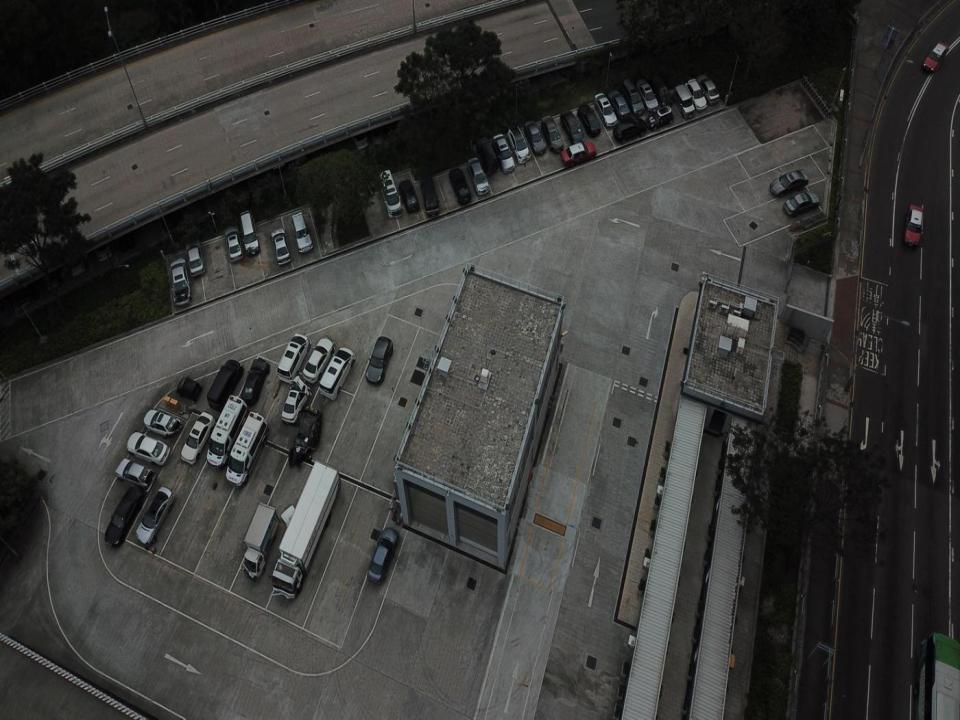bus: (917, 632, 958, 719)
car: (227, 409, 270, 488), (207, 394, 248, 470), (104, 486, 144, 548), (136, 486, 174, 546), (287, 406, 322, 467), (367, 528, 399, 585), (181, 411, 213, 464), (300, 336, 336, 383), (126, 430, 170, 465), (366, 334, 394, 386), (240, 357, 270, 405), (116, 457, 155, 493), (282, 376, 306, 426), (418, 166, 441, 218), (142, 408, 183, 437), (770, 168, 809, 197), (168, 258, 190, 306), (466, 156, 490, 197), (560, 141, 597, 167), (491, 133, 515, 173), (782, 192, 820, 217), (291, 212, 314, 253), (523, 119, 548, 156), (577, 101, 602, 138), (593, 90, 618, 127), (612, 117, 646, 144), (222, 222, 244, 263), (903, 203, 923, 248), (922, 40, 949, 73), (270, 224, 290, 268), (507, 126, 529, 166), (448, 166, 470, 206), (398, 178, 419, 217), (607, 86, 631, 120), (560, 107, 582, 144), (622, 77, 644, 114), (636, 74, 658, 111), (684, 78, 709, 110), (541, 115, 562, 153), (674, 81, 695, 117), (175, 375, 201, 403), (648, 104, 674, 132), (184, 237, 202, 277), (698, 72, 720, 104)
truck: (267, 459, 343, 600), (241, 503, 279, 581)
van: (206, 358, 245, 411), (379, 170, 402, 219), (238, 209, 261, 257)
